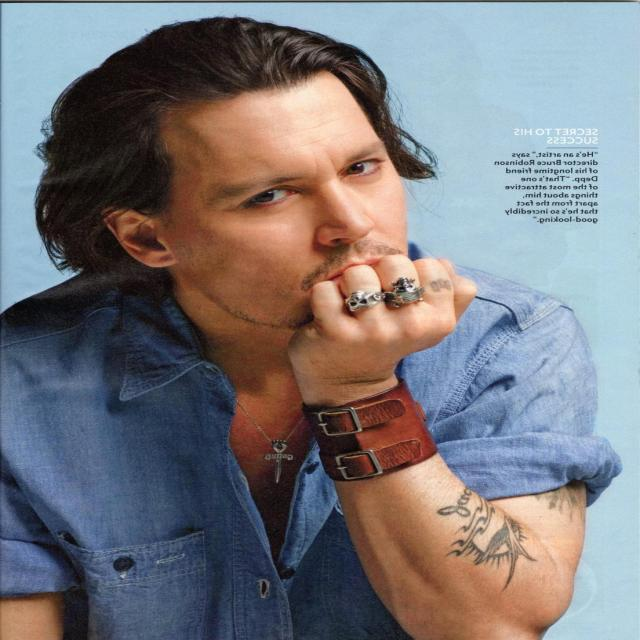no-earmuff: (100, 206, 177, 268)
